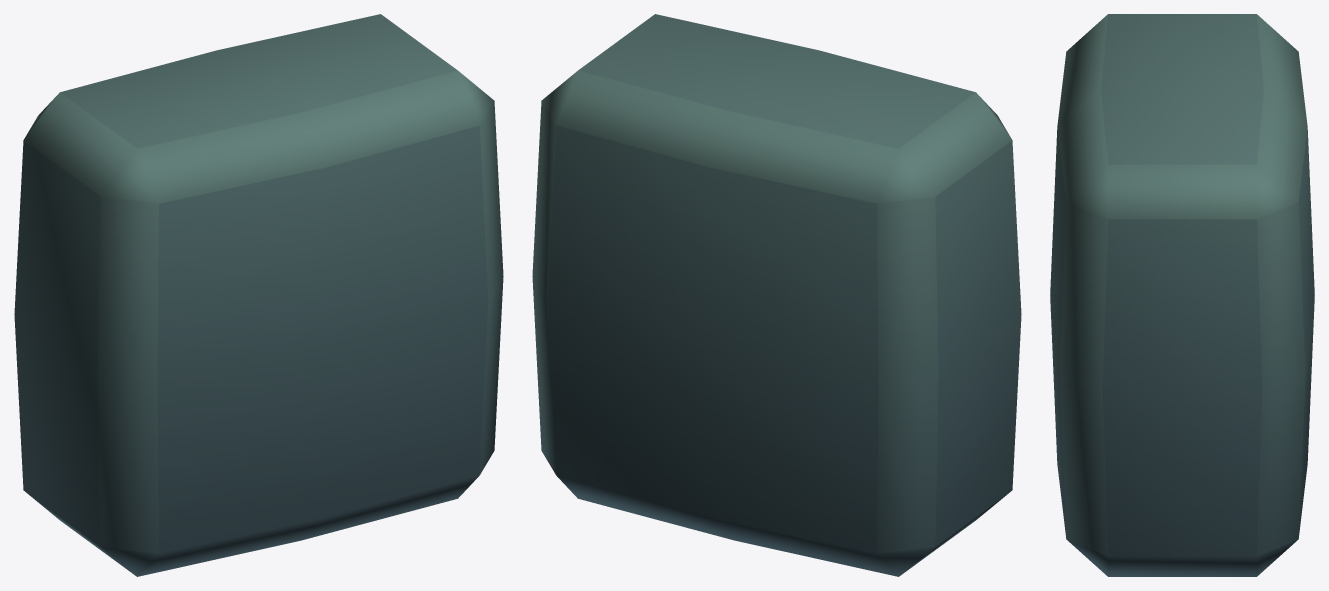
The model's file is cube_02_shade_3_LOD_setup.fbx.
The picture shows the model from 3 angles, left to right: view 1: azimuth 30°, elevation 25°; view 2: azimuth 150°, elevation 25°; view 3: azimuth 270°, elevation 25°; orthographic projection. The views are drawn at different scales.
Parts seen in each view (by area): view 1: cube_02_shade_3_LOD0; view 2: cube_02_shade_3_LOD0; view 3: cube_02_shade_3_LOD0.
Part boxes in pixels (x1,y1,x2,y2): cube_02_shade_3_LOD0: (14, 14, 503, 576); cube_02_shade_3_LOD0: (532, 14, 1021, 576); cube_02_shade_3_LOD0: (1050, 14, 1314, 576).
Size of what is drawn, in the model's own units: 54.61 by 55.02 by 32.01.
